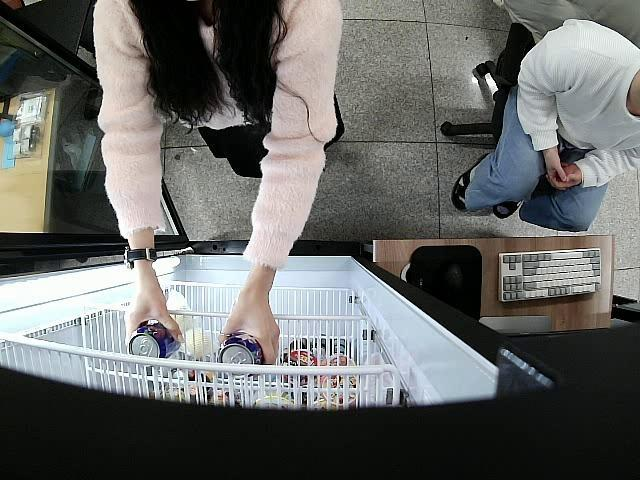14_welchsGrape: (218, 330, 266, 378), (128, 320, 182, 361)
